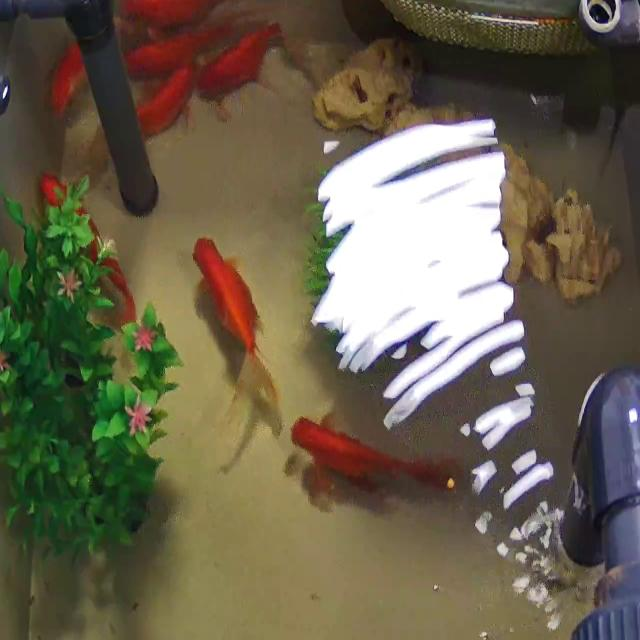fish: (184, 229, 295, 420), (34, 181, 145, 319), (270, 417, 460, 493), (198, 11, 298, 121), (117, 25, 244, 69), (36, 36, 84, 144), (134, 69, 202, 145), (130, 0, 280, 18)
